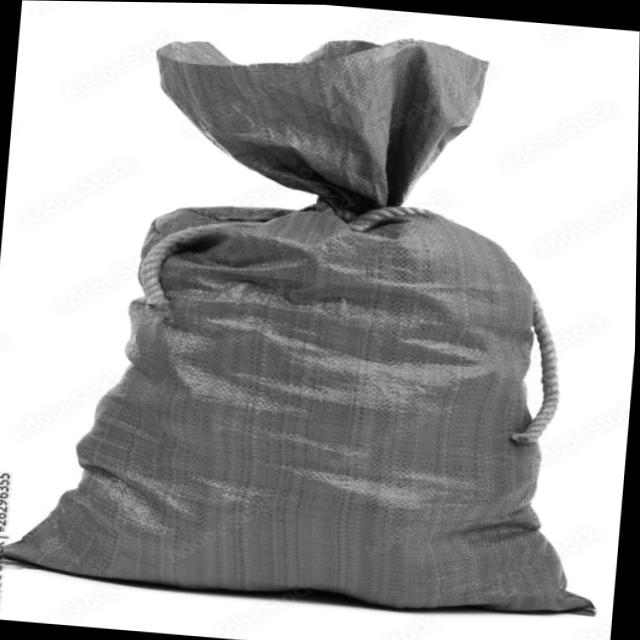sack: (0, 5, 640, 624)
